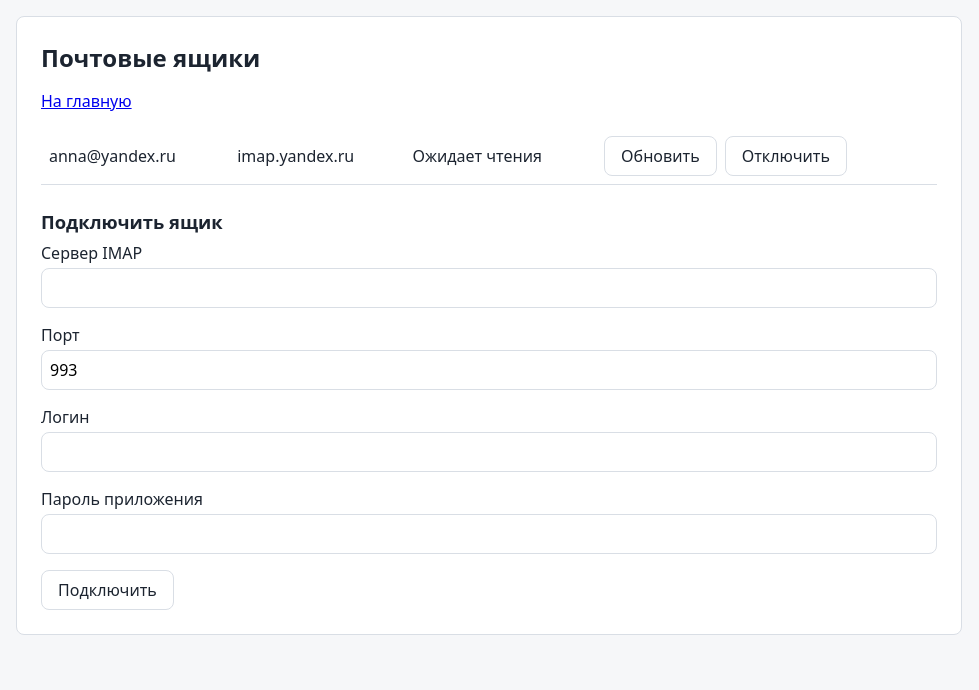
it: mailboxes page: connect form › FR-22 «The same mailbox twice»: the list already holds the mailbox, nothing is saved and the form shows «Этот ящик уже подключён»
Expected: the text "anna@yandex.ru" is shown, [41,128,229,184]
Type "imap.yandex.ru" into the field labelled "Сервер IMAP" at {"x": 489, "y": 288}, box [41,268,937,308]
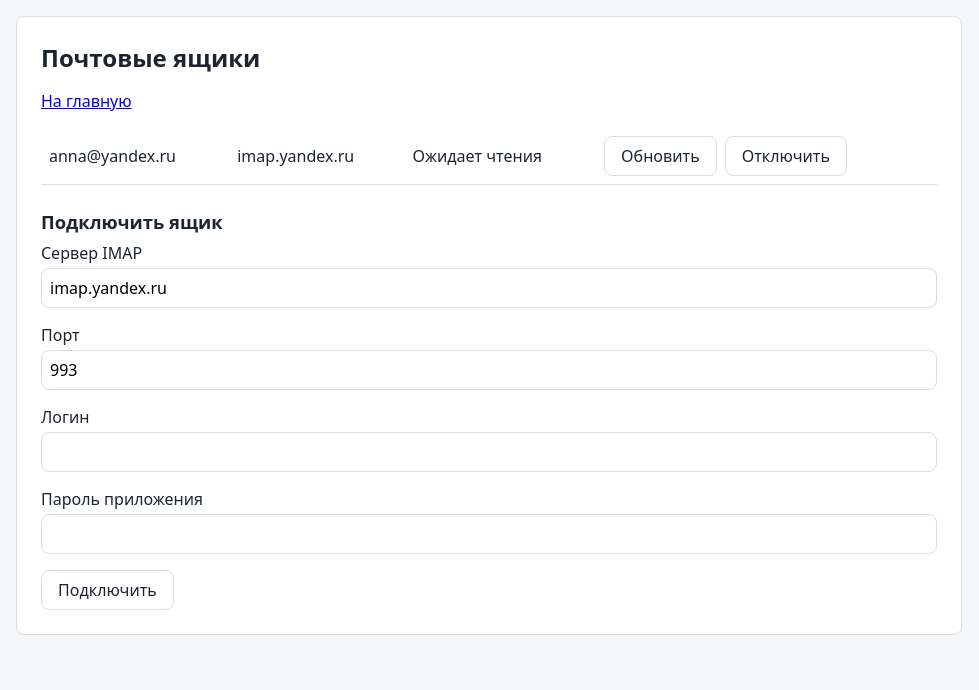
Type "anna@yandex.ru" into the field labelled "Логин" at {"x": 489, "y": 452}, box [41,432,937,472]
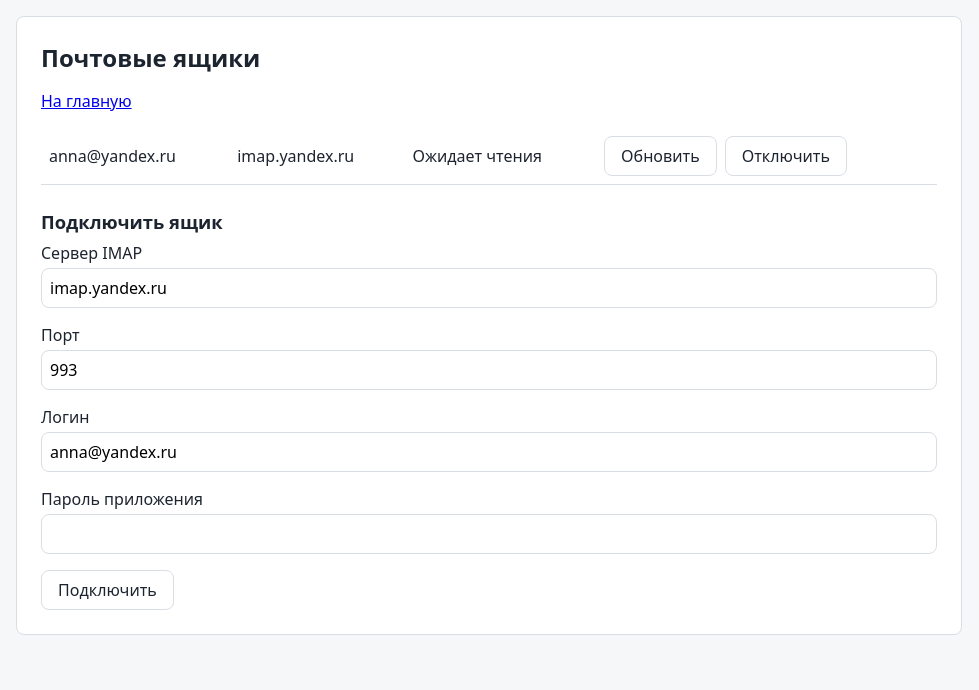
Type "wrong-pass-1" into the password field labelled "Пароль приложения" at {"x": 489, "y": 534}, box [41,514,937,554]
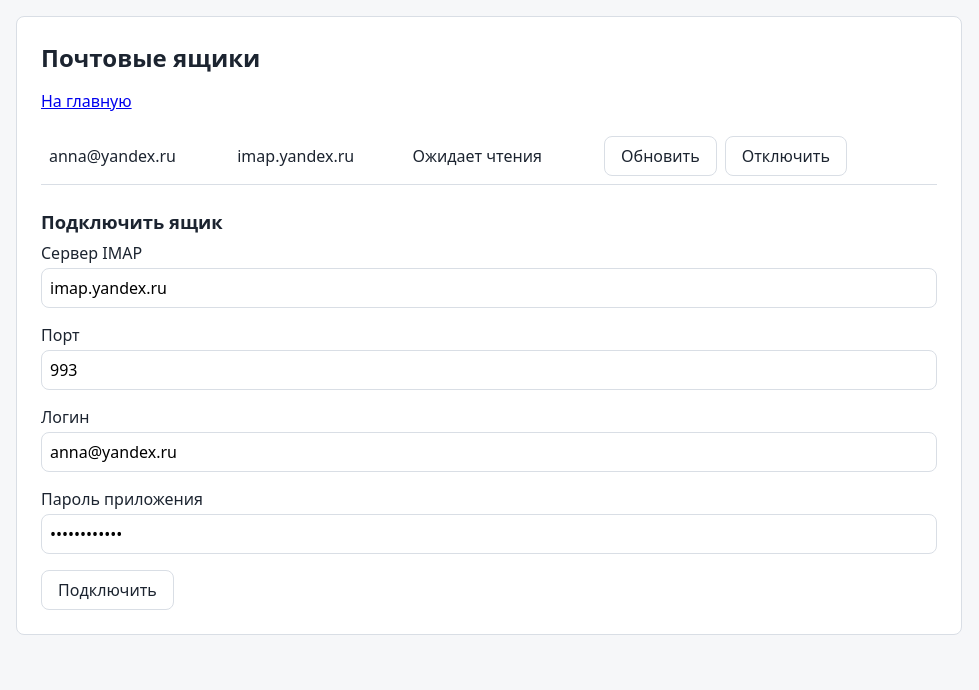
Click the button "Подключить" at {"x": 107, "y": 590}, box [41,570,174,610]
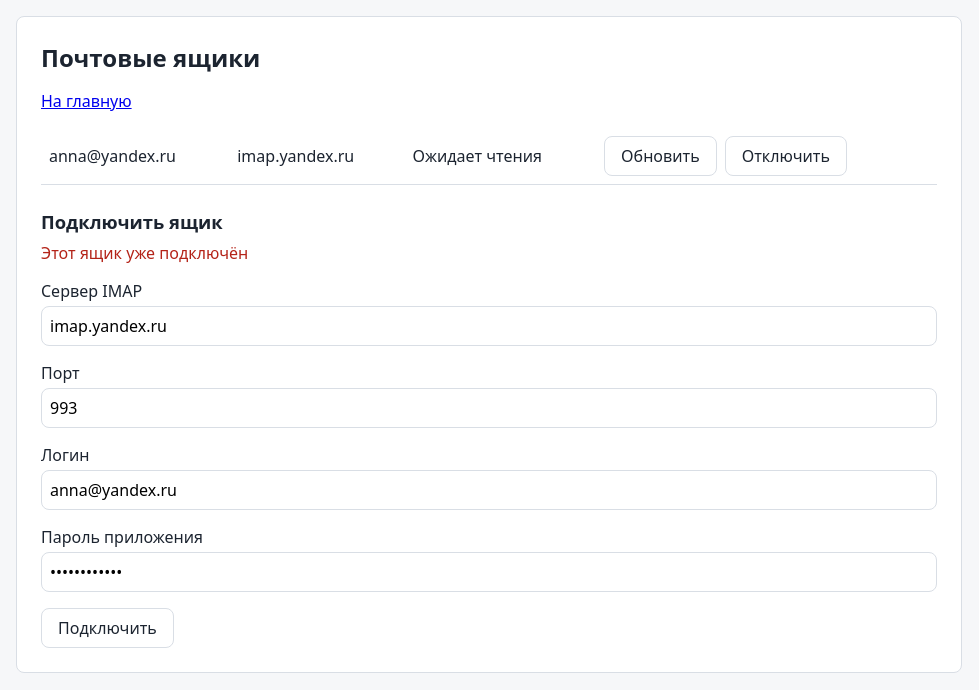
Expected: the text "anna@yandex.ru" is shown once, [41,128,229,184]
Result: the text "Этот ящик уже подключён" is shown at [41,242,248,264]
